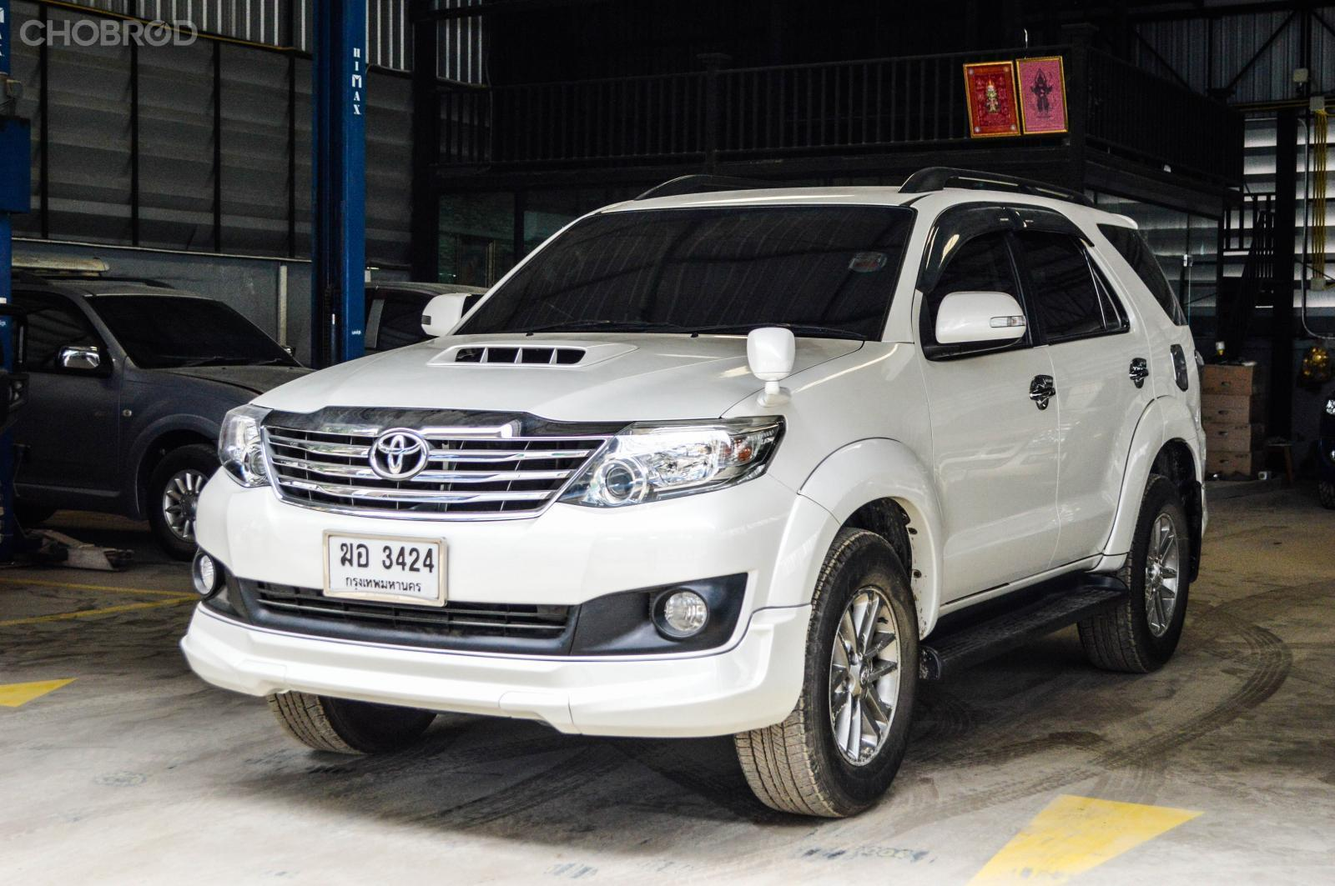license-plate: (321, 529, 450, 607)
